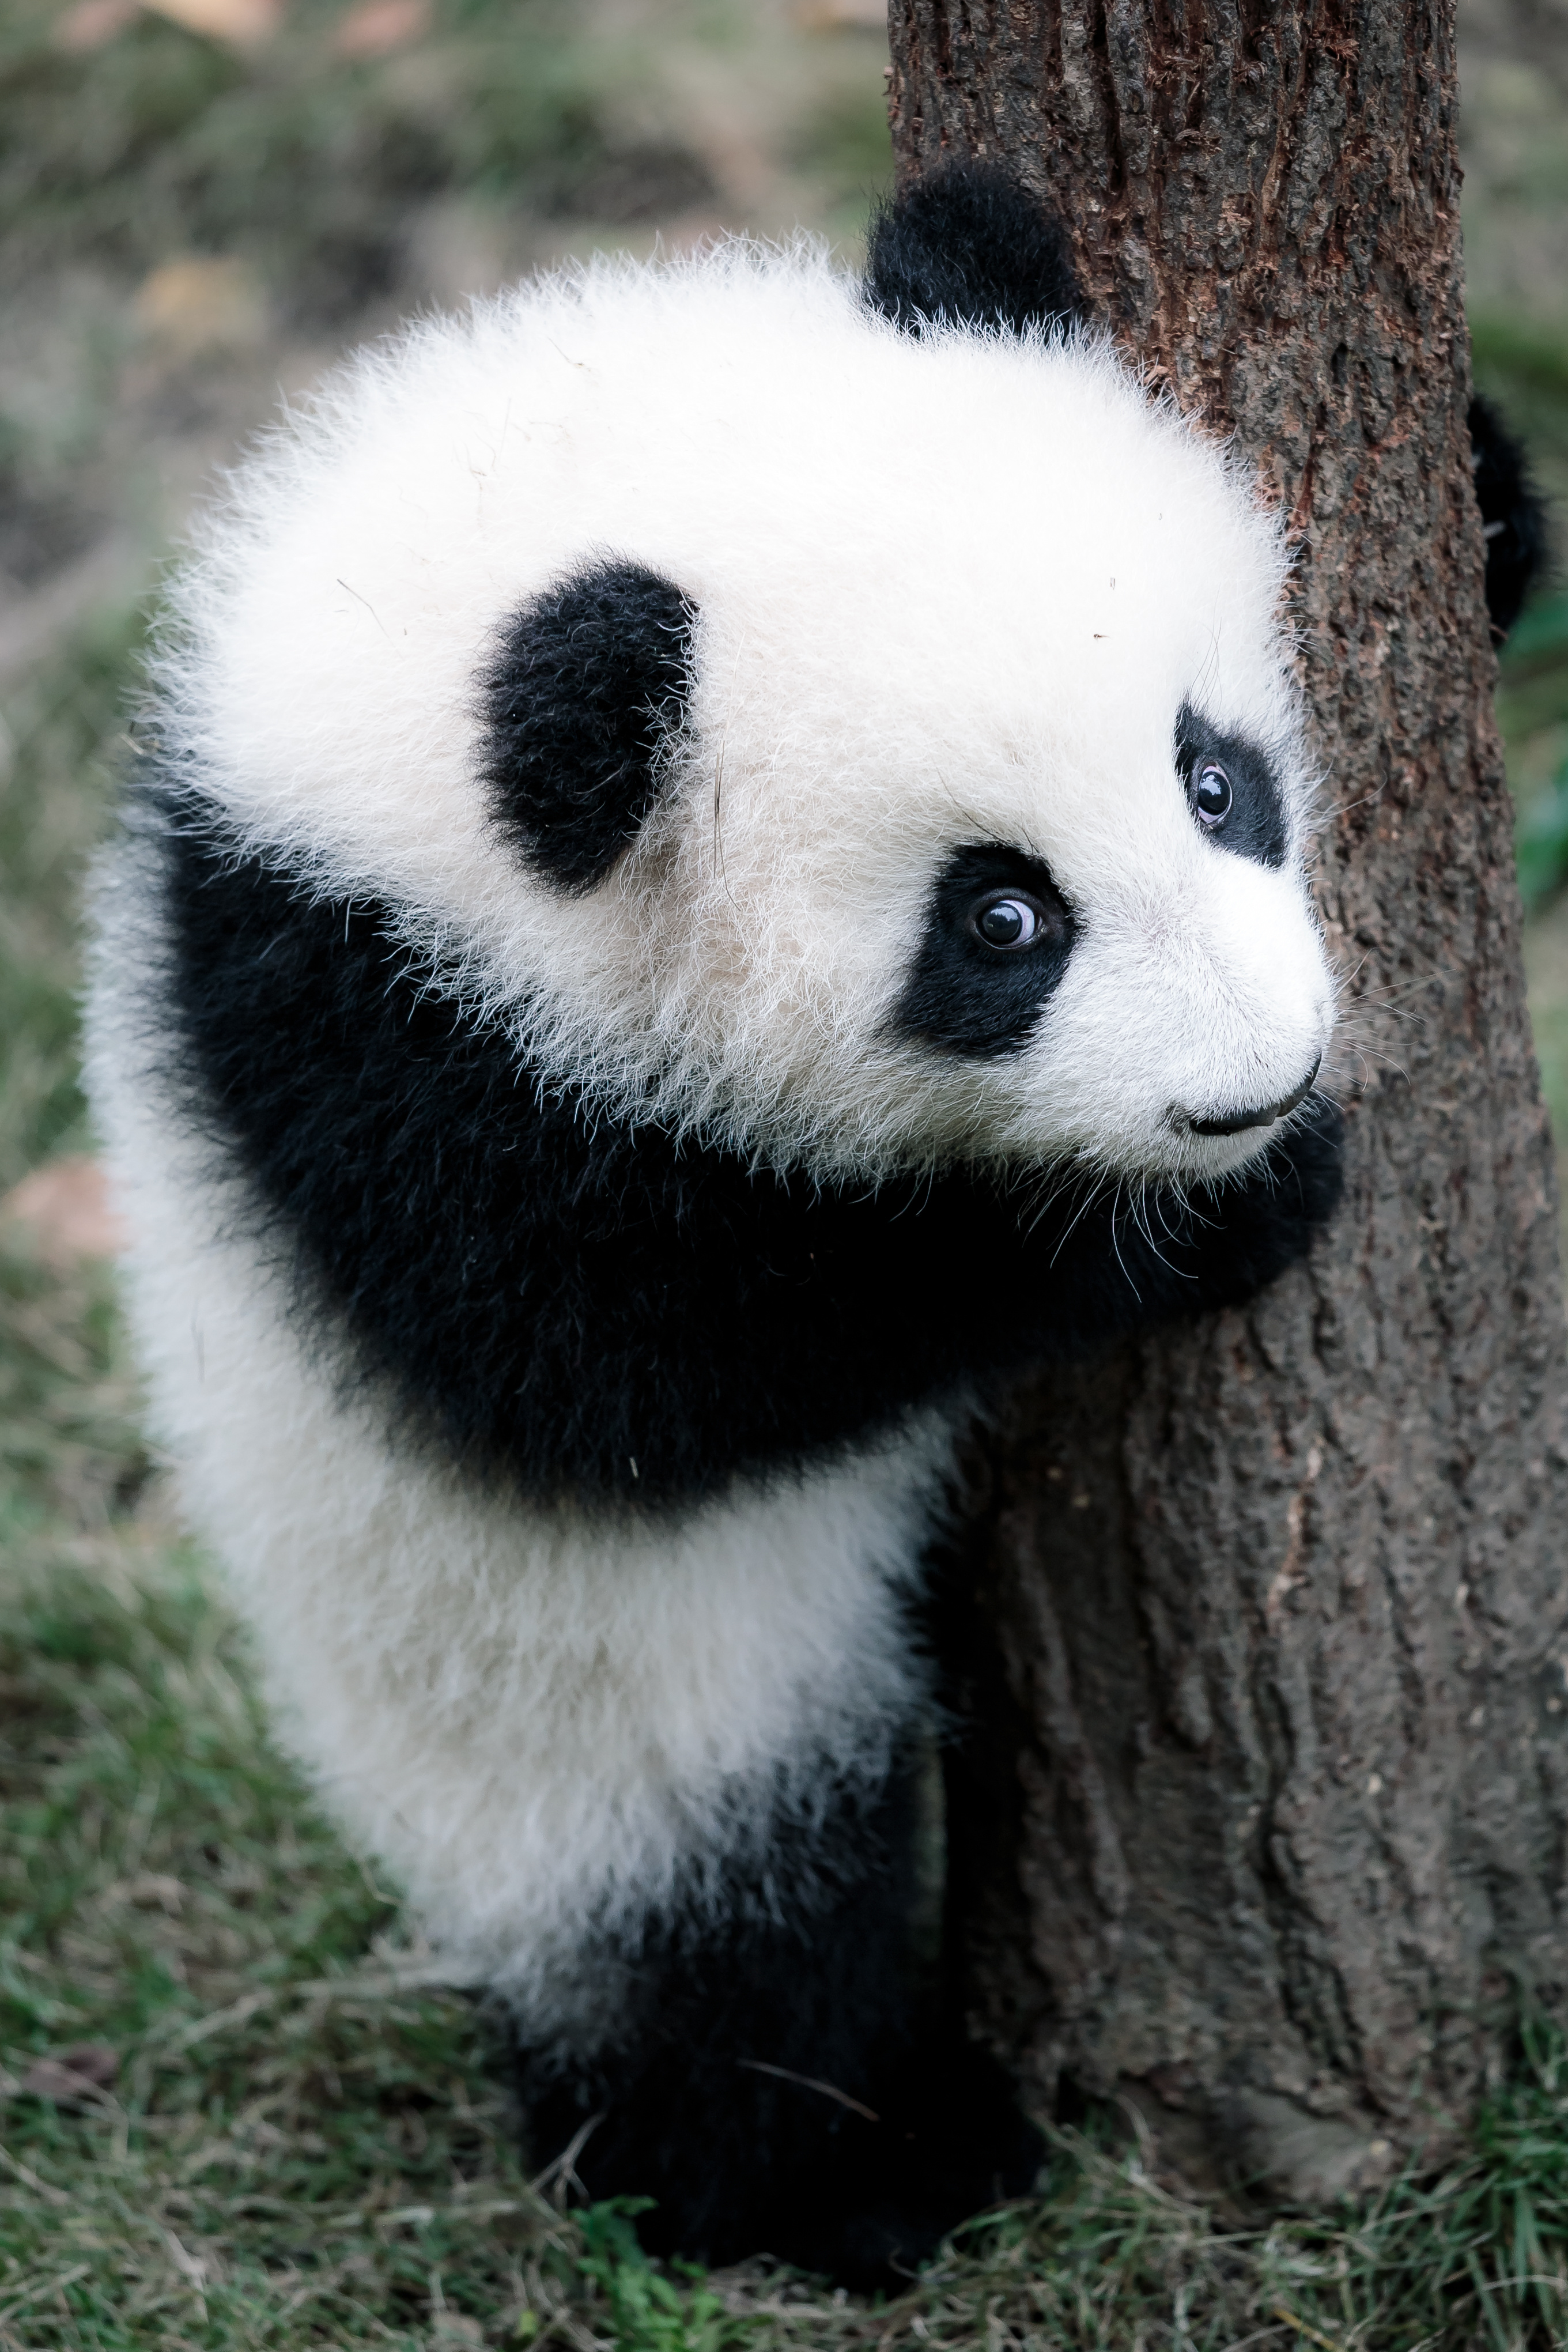panda: (49, 191, 1449, 2293)
